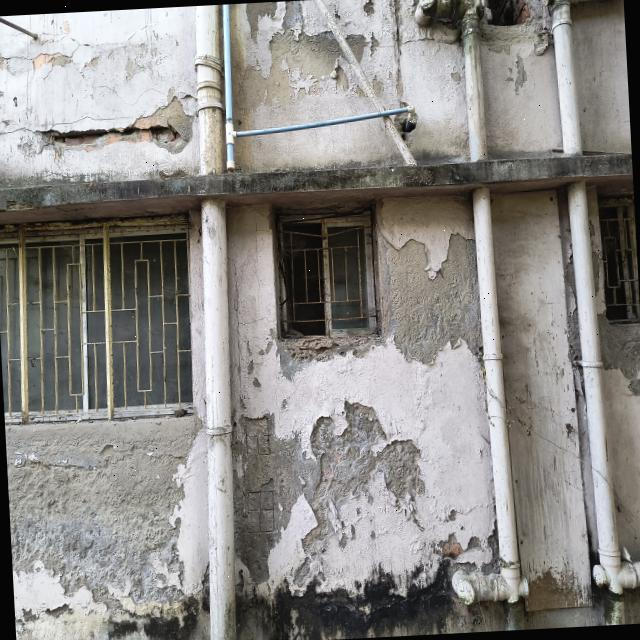Scaling: (5, 414, 209, 614), (232, 403, 430, 598), (385, 234, 482, 371), (56, 117, 181, 150), (599, 315, 640, 395), (571, 322, 580, 353)
